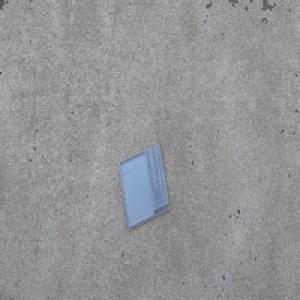PlasticPart: (117, 141, 170, 232)
